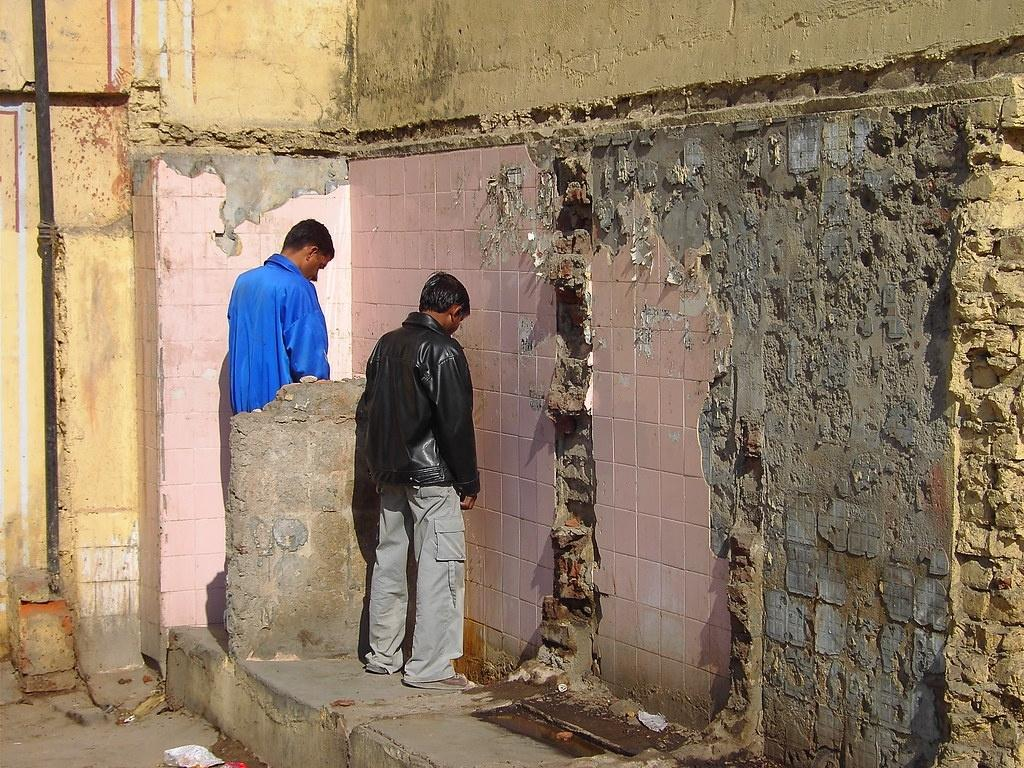Crack: (350, 24, 1023, 166)
